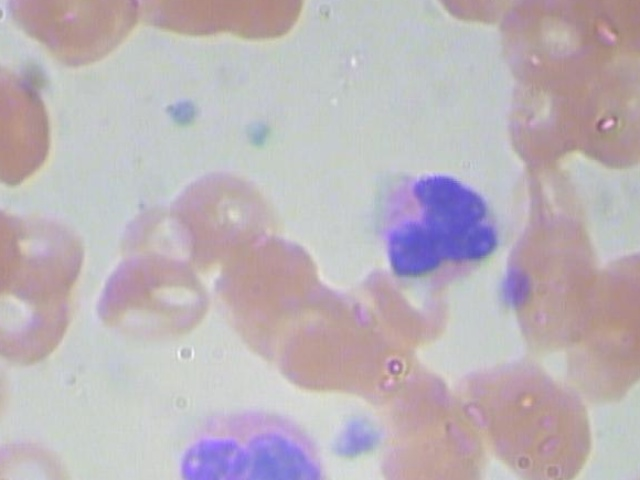Platelets: (325, 411, 390, 463), (491, 263, 535, 312), (161, 88, 205, 136), (234, 110, 277, 158)
RBC: (87, 242, 220, 356), (498, 0, 626, 101), (173, 160, 290, 269), (207, 224, 324, 333), (262, 282, 379, 391), (448, 345, 564, 454), (550, 262, 640, 401), (0, 0, 156, 71), (487, 386, 604, 480), (491, 59, 593, 166), (0, 55, 67, 193), (554, 63, 640, 169), (0, 200, 91, 300), (110, 204, 207, 290), (0, 271, 80, 370), (370, 413, 487, 480), (0, 428, 82, 480), (0, 343, 42, 439)
WBC: (356, 149, 516, 294), (172, 392, 339, 480)
